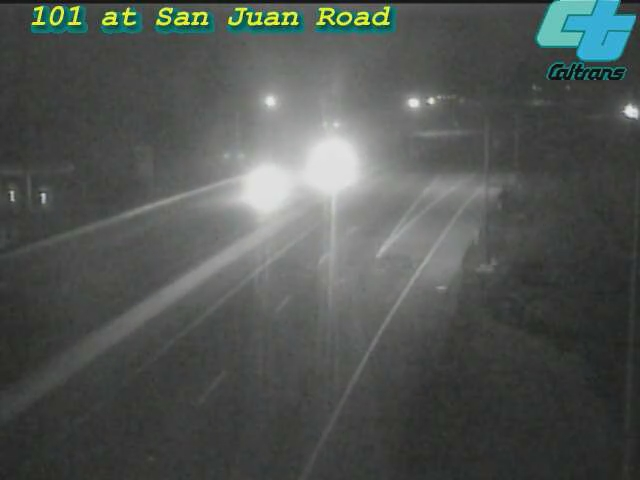vehicle: (222, 142, 302, 222), (285, 126, 365, 206), (609, 88, 640, 138)
